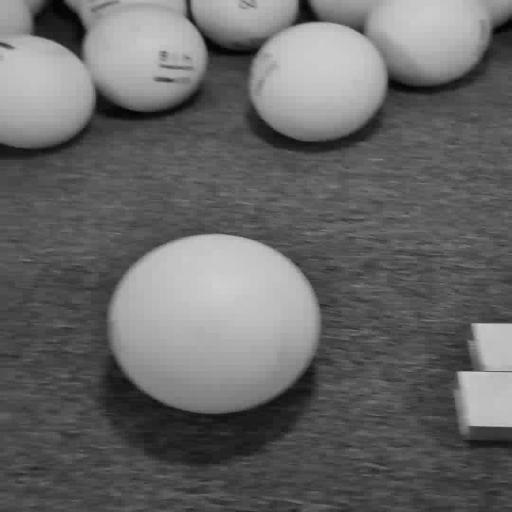fuel: (108, 234, 320, 413), (249, 22, 387, 142), (83, 4, 208, 112), (0, 35, 96, 149)
